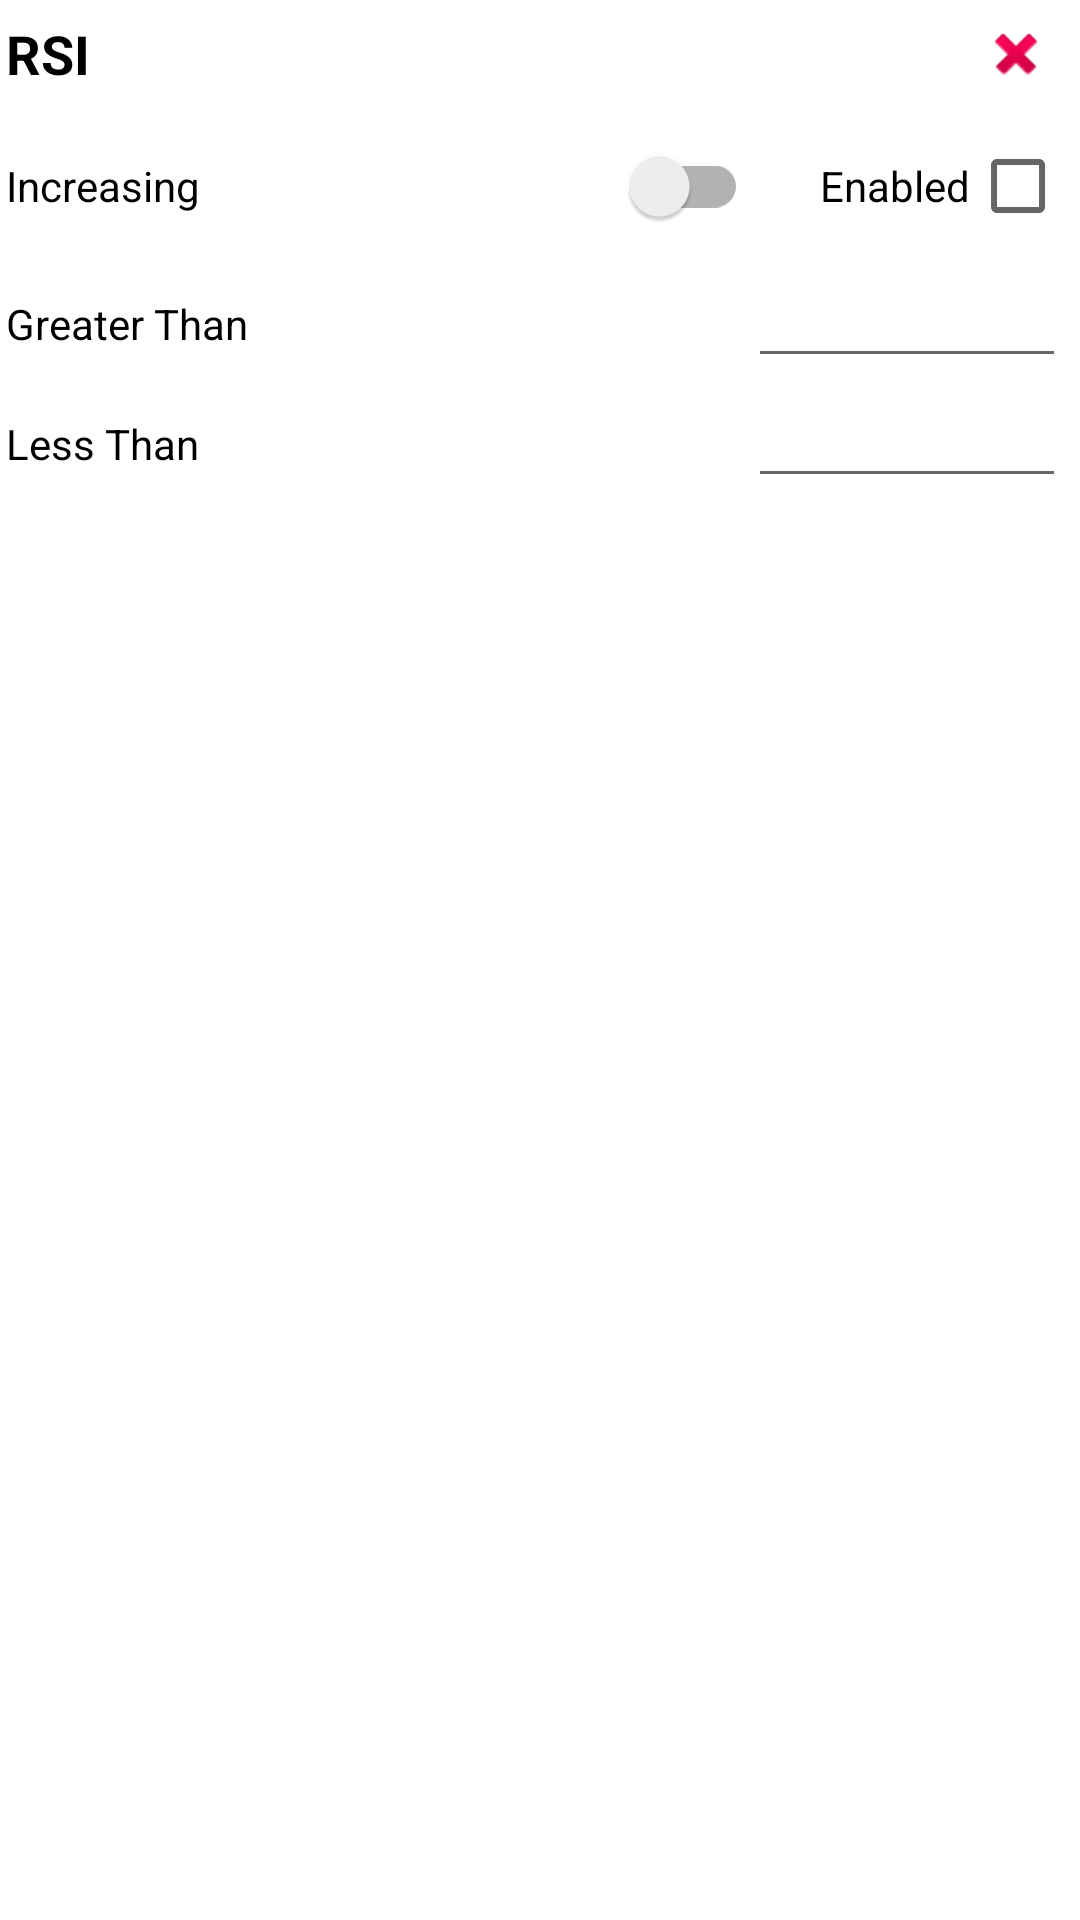

Point at icon controls on the screen. Image size 1080w x 1920h, points as (x,y).
delete: (1016,54)
